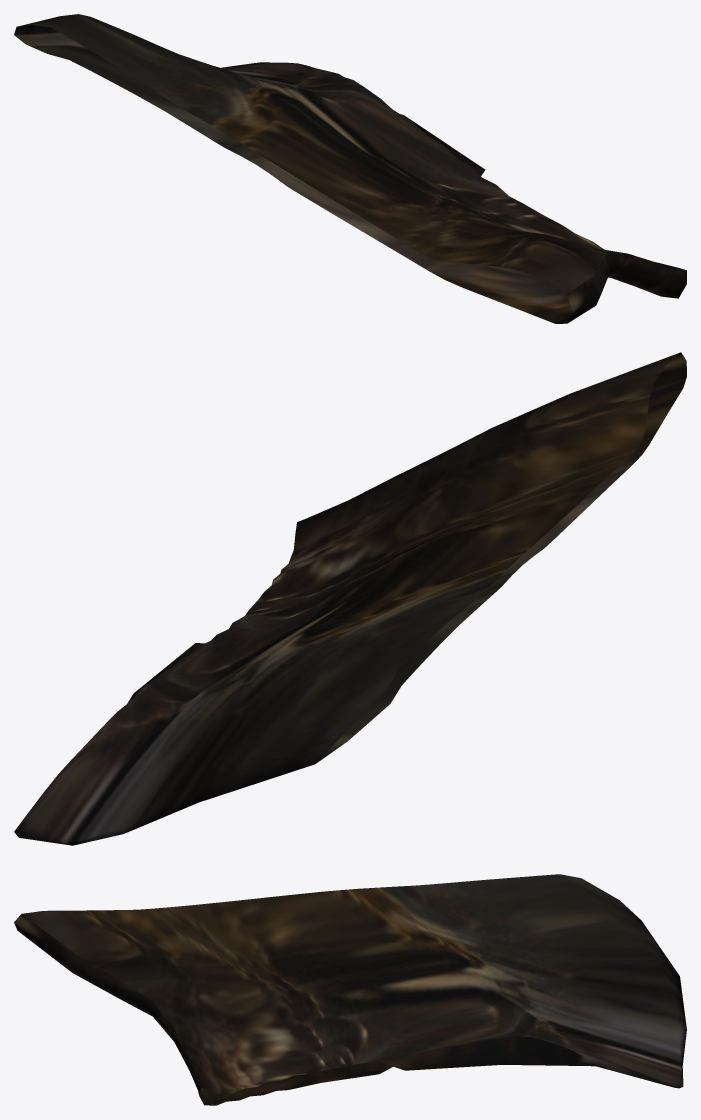
File: right_wing_close.obj
3 renders of one model, top to bottom at view 1: azimuth 30°, elevation 25°; view 2: azimuth 150°, elevation 25°; view 3: azimuth 270°, elevation 25°, orthographic. The views are drawn at different scales.
Visible parts, largest first — view 1: left-wings-inner_Plane.001; view 2: left-wings-inner_Plane.001; view 3: left-wings-inner_Plane.001.
Boxes of the visible parts, left/top/right/bottom form: left-wings-inner_Plane.001: left=14, top=14, right=686, bottom=323; left-wings-inner_Plane.001: left=14, top=352, right=686, bottom=845; left-wings-inner_Plane.001: left=14, top=874, right=686, bottom=1105.
Size of the model in its own units: 1.41 by 0.6275 by 3.26.
